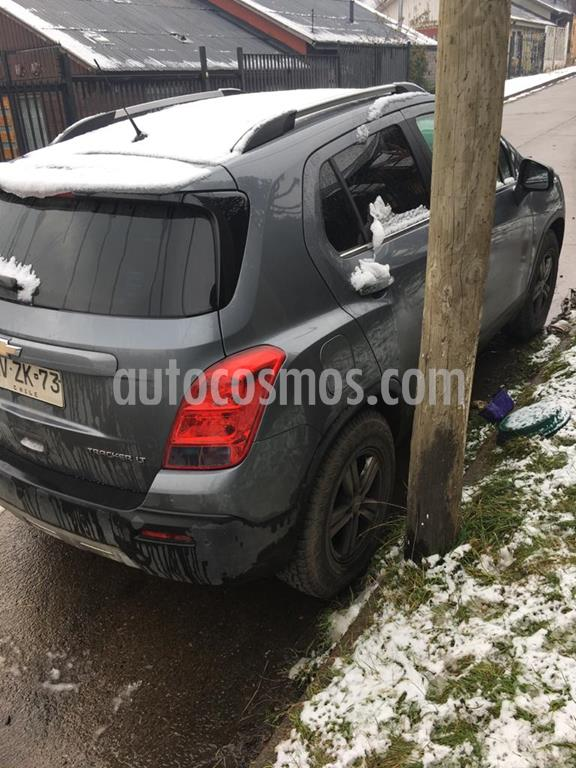Camioneta: (5, 77, 572, 572)
